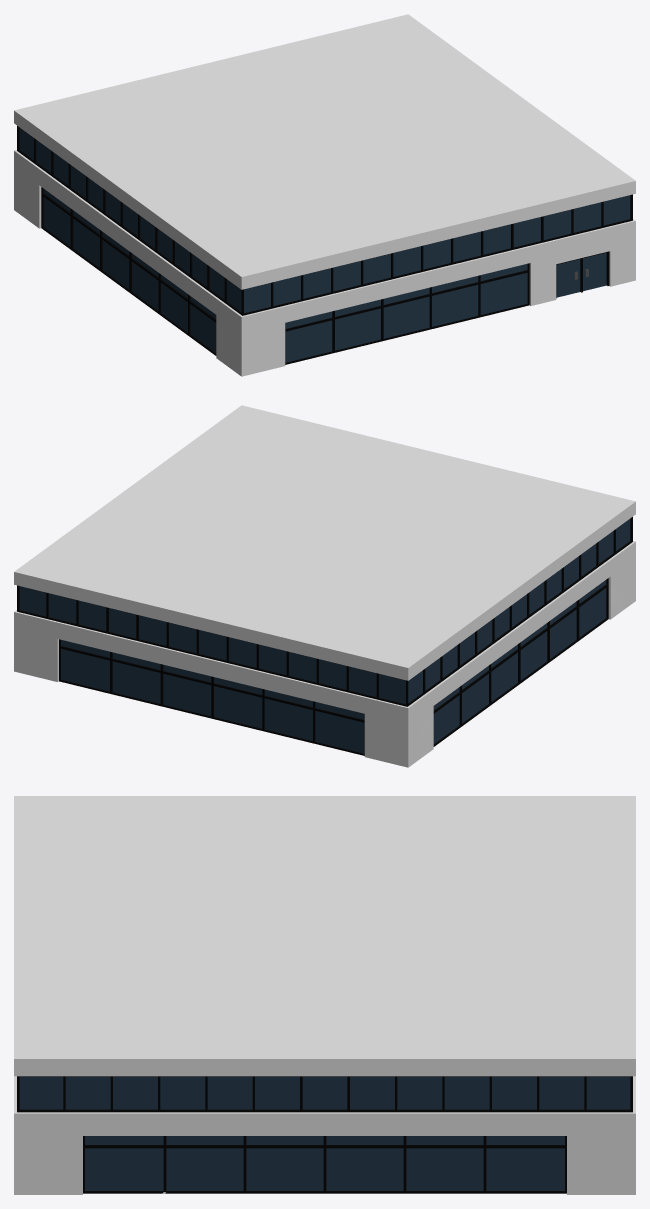
The model's file is BGC 2.fbx.
3 views of the same model, one above another, from view 1: azimuth 30°, elevation 25°; view 2: azimuth 150°, elevation 25°; view 3: azimuth 270°, elevation 25° (orthographic). The views are drawn at different scales.
Parts seen in each view (by area): view 1: BGC2_Roof, BGC2_Base_Windows, BGC2_Floor_Windows, BGC2_Floor_Main, BGC2_Base_Main, BGC2_Base_Frame, BGC2_Floor_Frame, BGC2_Floor_Floor; view 2: BGC2_Roof, BGC2_Base_Windows, BGC2_Floor_Windows, BGC2_Floor_Main, BGC2_Base_Main, BGC2_Base_Frame, BGC2_Floor_Frame, BGC2_Floor_Floor; view 3: BGC2_Roof, BGC2_Base_Windows, BGC2_Floor_Windows, BGC2_Floor_Main, BGC2_Base_Main, BGC2_Base_Frame, BGC2_Floor_Frame, BGC2_Floor_Floor.
Part boxes in pixels (x1,y1,x2,y2): BGC2_Roof: (14,14,635,289); BGC2_Base_Windows: (43,189,606,362); BGC2_Floor_Windows: (19,128,630,313); BGC2_Floor_Main: (14,151,635,332); BGC2_Base_Main: (14,167,635,376); BGC2_Base_Frame: (41,187,609,364); BGC2_Floor_Frame: (17,126,632,315); BGC2_Floor_Floor: (14,150,635,316); BGC2_Roof: (14,405,635,680); BGC2_Base_Windows: (61,580,606,753); BGC2_Floor_Windows: (19,519,630,704); BGC2_Floor_Main: (14,542,635,723); BGC2_Base_Main: (14,558,635,767); BGC2_Base_Frame: (59,578,608,755); BGC2_Floor_Frame: (17,517,632,706); BGC2_Floor_Floor: (14,541,635,707); BGC2_Roof: (14,796,635,1076); BGC2_Base_Windows: (85,1136,564,1190); BGC2_Floor_Windows: (19,1076,630,1109); BGC2_Floor_Main: (14,1113,635,1135); BGC2_Base_Main: (14,1135,635,1194); BGC2_Base_Frame: (83,1136,566,1193); BGC2_Floor_Frame: (17,1076,632,1112); BGC2_Floor_Floor: (14,1076,635,1113).
Bounding box in the file's own units: 2704 × 653 × 2704.
